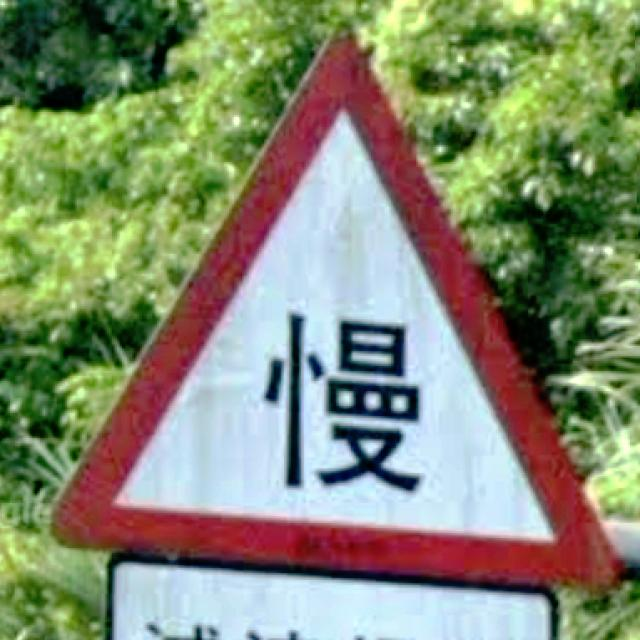slow: (52, 33, 627, 592)
